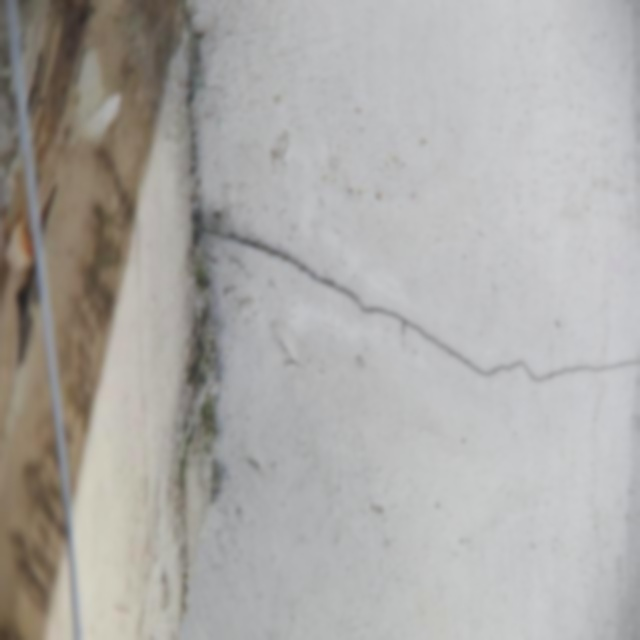SurfaceCrack: (30, 194, 640, 414)
